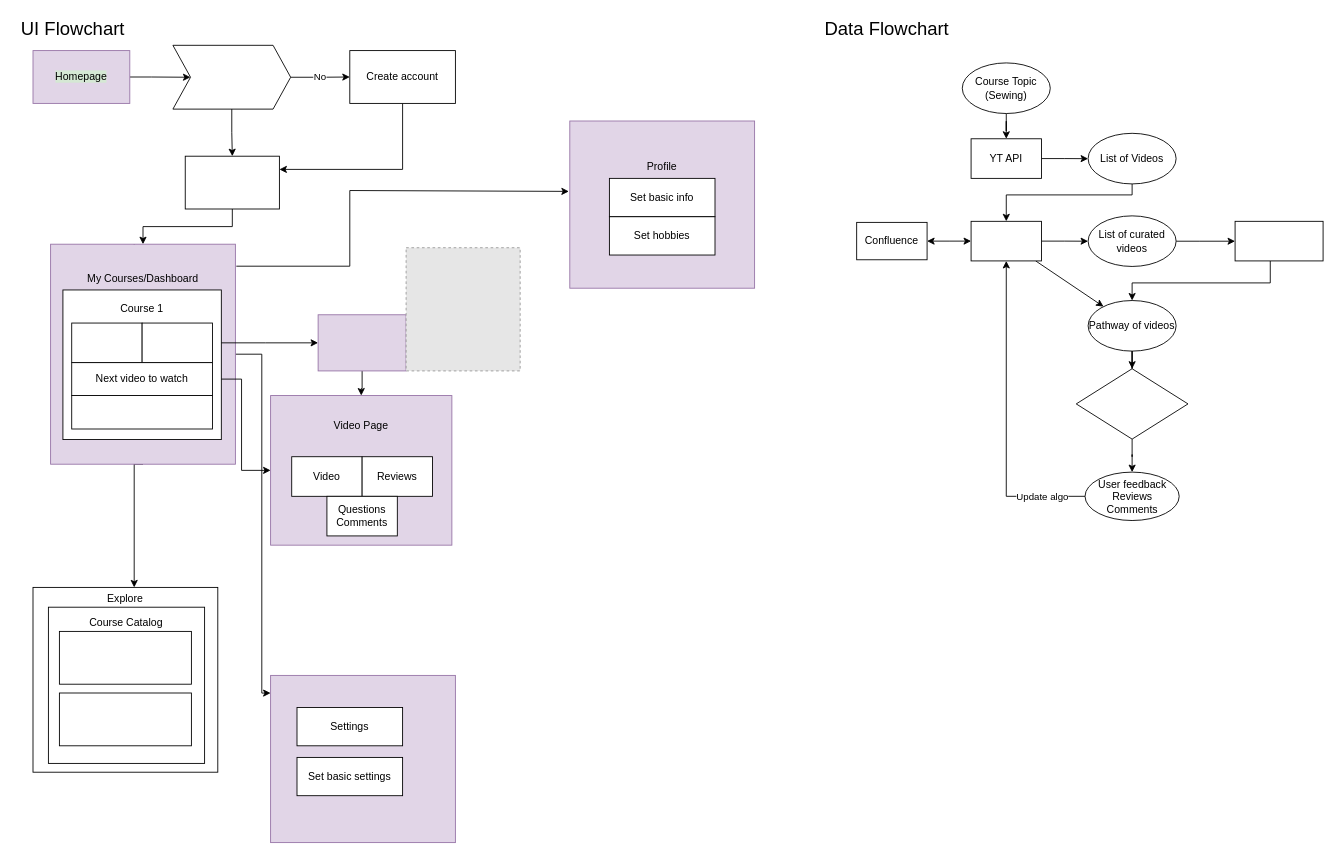
Some shapes in this 1338 by 858 pixel diagram are drawn without their labels. Grey dashed boxes stand in for pictures. Each missing label, with the centre of its shape:
"Connect with other students" goes at (x=142, y=412).
"Course list" goes at (x=177, y=342).
"Course Search with Filter Option" goes at (x=125, y=719).
"Current Progress" goes at (x=106, y=342).
"Display videos to user" goes at (x=1131, y=403).
"Filtering algo" goes at (x=1005, y=240).
"List of sections and videos" goes at (x=361, y=342).
"Log in" goes at (x=231, y=182).
"Recommended Courses" goes at (x=125, y=657).
"Sorting algo Begin/Inter/Adv" goes at (x=1278, y=240).
"user account?" goes at (x=231, y=76).
